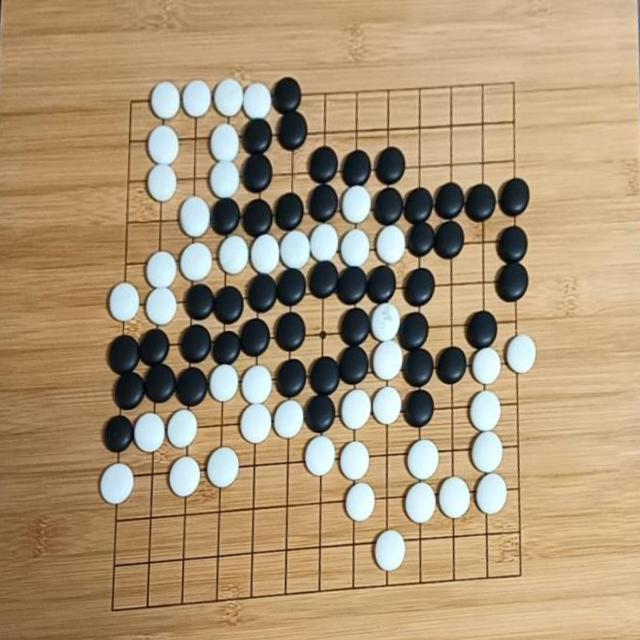blackstone: (495, 261, 529, 303), (144, 363, 177, 403), (114, 371, 146, 411), (465, 183, 497, 222), (108, 335, 140, 374), (180, 323, 212, 362), (308, 260, 339, 300), (403, 348, 434, 388), (340, 306, 371, 346), (275, 312, 306, 352), (309, 357, 340, 397), (176, 368, 207, 408), (466, 311, 498, 349), (242, 199, 274, 237), (336, 266, 368, 304), (276, 359, 307, 398), (103, 415, 134, 454), (278, 110, 308, 150), (243, 154, 273, 194), (276, 268, 306, 308), (240, 318, 270, 358), (305, 395, 336, 433), (498, 178, 529, 216), (433, 220, 464, 258), (434, 182, 465, 220), (404, 268, 435, 306), (436, 347, 467, 385), (213, 286, 244, 324), (366, 266, 396, 305), (309, 184, 339, 223), (248, 274, 278, 312), (140, 328, 170, 366), (376, 147, 406, 185), (398, 312, 428, 350), (404, 390, 434, 428), (339, 346, 368, 385), (497, 226, 528, 262), (342, 150, 372, 187), (374, 188, 404, 225), (275, 193, 305, 230), (212, 197, 240, 236), (243, 118, 273, 154), (272, 76, 302, 112), (186, 283, 214, 321), (407, 221, 436, 257), (309, 146, 338, 182), (404, 188, 433, 223), (212, 331, 241, 365)
whitestone: (98, 461, 136, 506), (467, 389, 502, 433), (437, 476, 472, 520), (470, 430, 505, 473), (178, 195, 212, 239), (403, 482, 438, 524), (474, 472, 508, 515), (168, 455, 202, 498), (370, 340, 404, 381), (406, 439, 440, 480), (304, 434, 337, 476), (374, 529, 407, 571), (206, 448, 240, 488), (133, 412, 166, 453), (108, 281, 140, 323), (218, 233, 250, 275), (340, 389, 372, 431), (144, 287, 178, 326), (147, 124, 180, 164), (344, 482, 377, 522), (212, 77, 245, 117), (273, 399, 305, 440), (370, 301, 402, 342), (146, 162, 178, 202), (371, 386, 403, 426), (209, 122, 241, 162), (339, 440, 371, 480), (240, 403, 272, 443), (180, 242, 212, 282), (209, 160, 241, 199), (241, 365, 273, 404), (150, 80, 181, 120), (167, 409, 198, 449), (145, 250, 177, 288), (470, 347, 502, 385), (508, 334, 538, 374), (242, 81, 273, 119), (280, 230, 311, 268), (376, 225, 406, 264), (250, 234, 280, 273), (340, 228, 370, 267), (209, 363, 239, 401), (182, 79, 212, 117), (341, 186, 371, 223), (310, 223, 338, 262)
